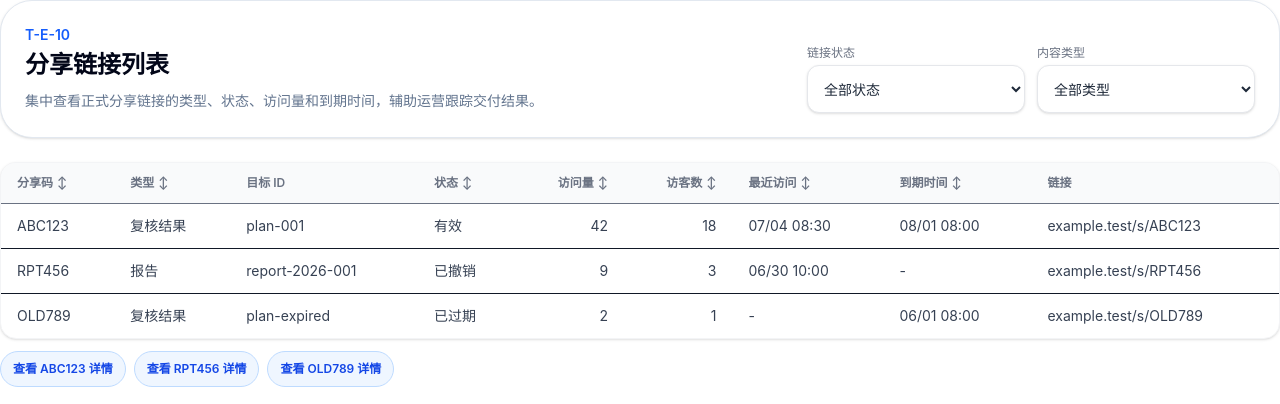
Test: AdminShareLinksPage › filters share links by status and result type
The width and height of the screenshot is (1280, 404).
Expected: the text "ABC123" is shown, [1,204,114,248]
Select "已撤销" in the dropdown labelled "链接状态". click: [916, 89]
box: [807,65,1025,113]
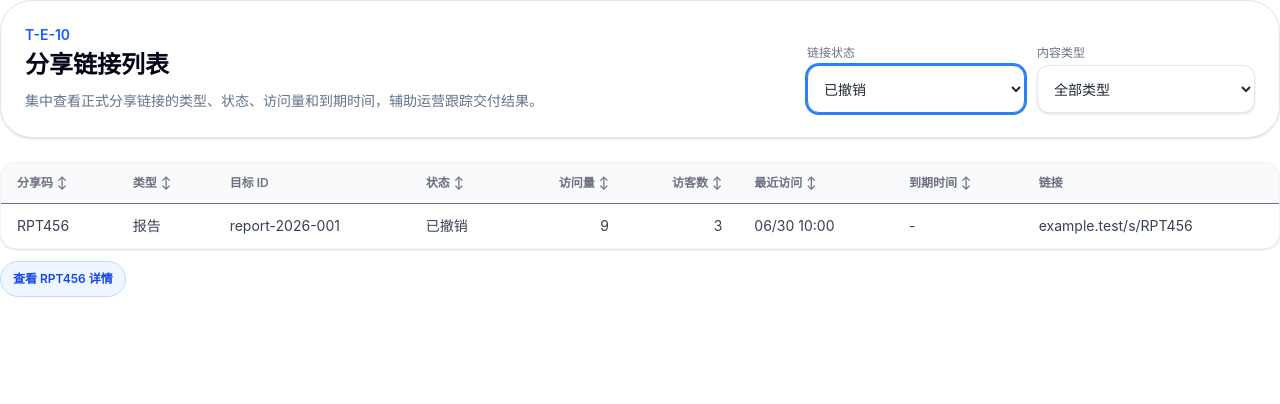
Expected: the text "RPT456" is shown, [1,204,117,248]
Expected: the text "ABC123" is gone
Select "复核结果" in the dropdown labelled "内容类型". click: [1146, 89]
box: [1037,65,1255,113]
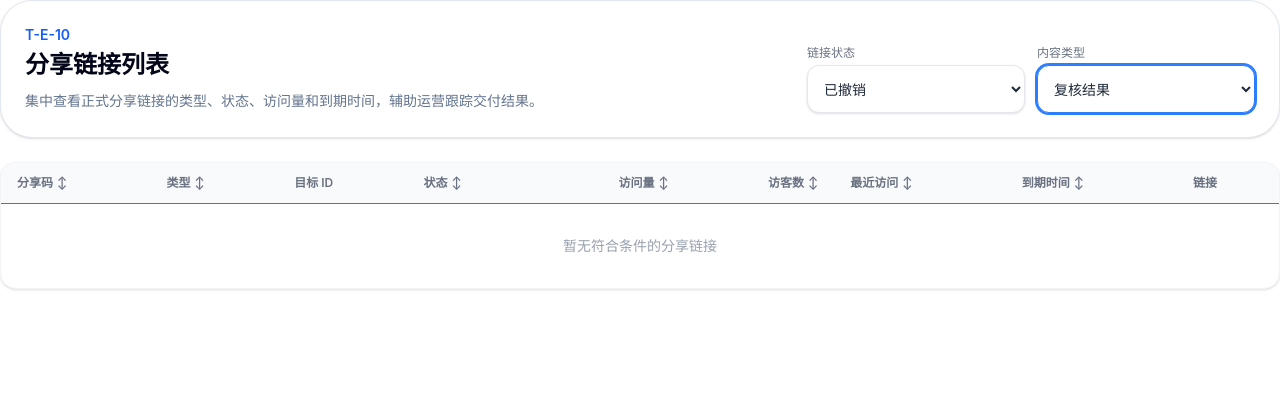
Expected: the text "暂无符合条件的分享链接" is shown, [1,204,1279,288]
